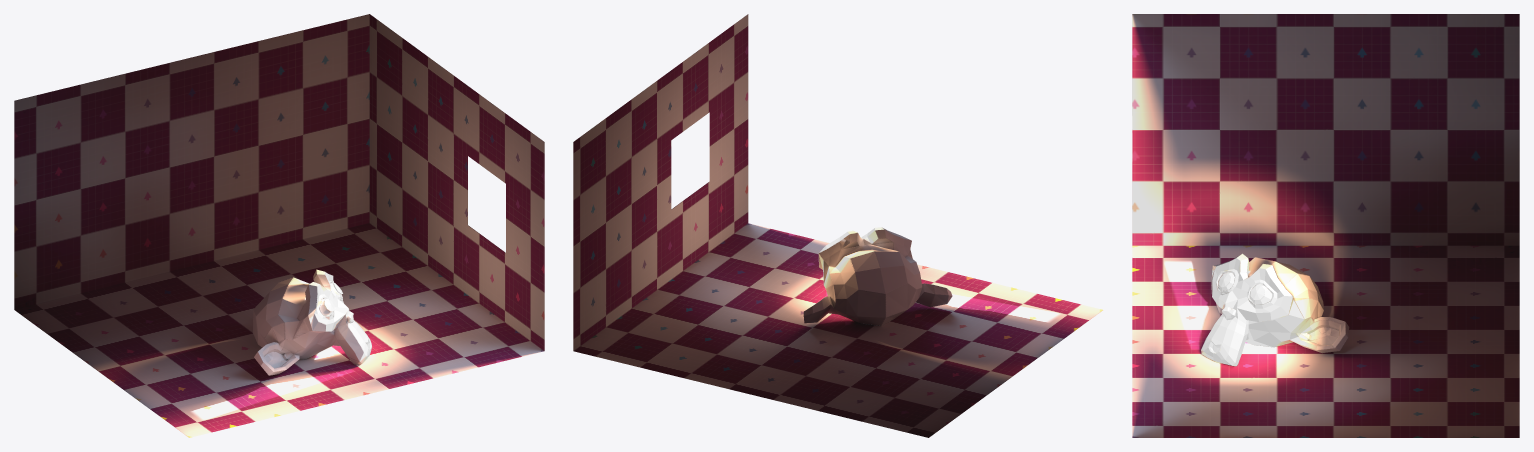
File: dnd_typeshyt-01a.glb
3 renders of one model, left to right at view 1: azimuth 30°, elevation 25°; view 2: azimuth 150°, elevation 25°; view 3: azimuth 270°, elevation 25°, orthographic. The views are drawn at different scales.
Parts seen in each view (by area): view 1: Cube, Suzanne; view 2: Cube, Suzanne; view 3: Cube, Suzanne.
Boxes of the visible parts, bbox=[...] form: Cube: bbox=[14, 14, 544, 437]; Suzanne: bbox=[252, 269, 371, 375]; Cube: bbox=[573, 14, 1102, 437]; Suzanne: bbox=[803, 227, 952, 325]; Cube: bbox=[1132, 14, 1519, 437]; Suzanne: bbox=[1201, 253, 1349, 366].
Bounding box in the file's own units: 4.33 × 2.54 × 3.69.
2 materials, 2 textured.
